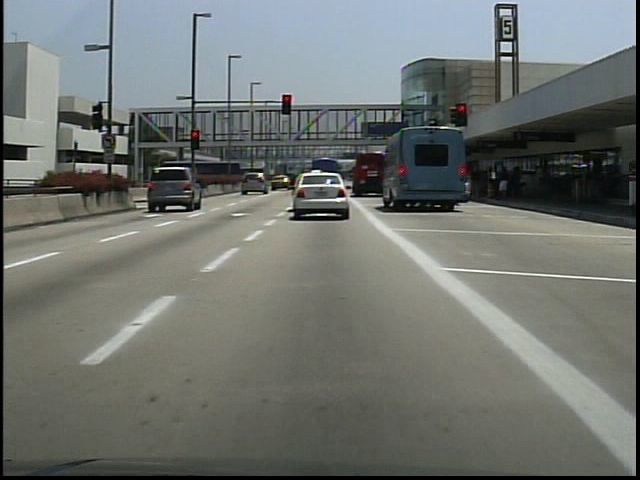person: (496, 164, 511, 204)
